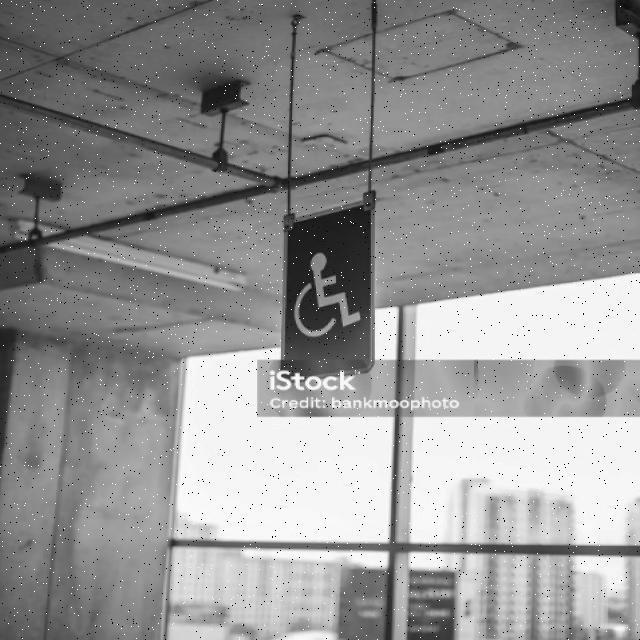symbol_of_access: (280, 195, 379, 382)
